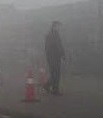person: (43, 20, 66, 96)
